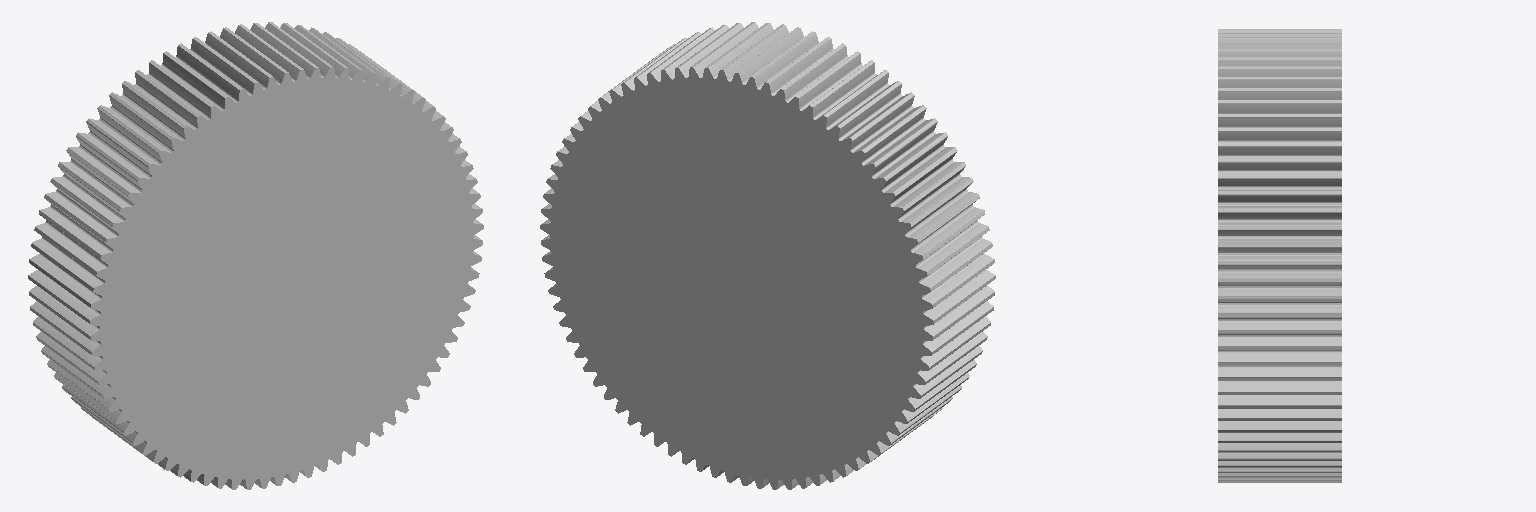
The model's file is pargear1.obj.
3 views of the same model, side by side, from view 1: azimuth 30°, elevation 25°; view 2: azimuth 150°, elevation 25°; view 3: azimuth 270°, elevation 25° (orthographic).
Parts seen in each view (by area): view 1: 1; view 2: 1; view 3: 1.
Boxes of the visible parts, box(x1,y1,x2,y2) form: 1: box(28, 22, 483, 489); 1: box(540, 22, 995, 489); 1: box(1218, 29, 1341, 482).
Bounding box in the file's own units: 603 × 603 × 165.